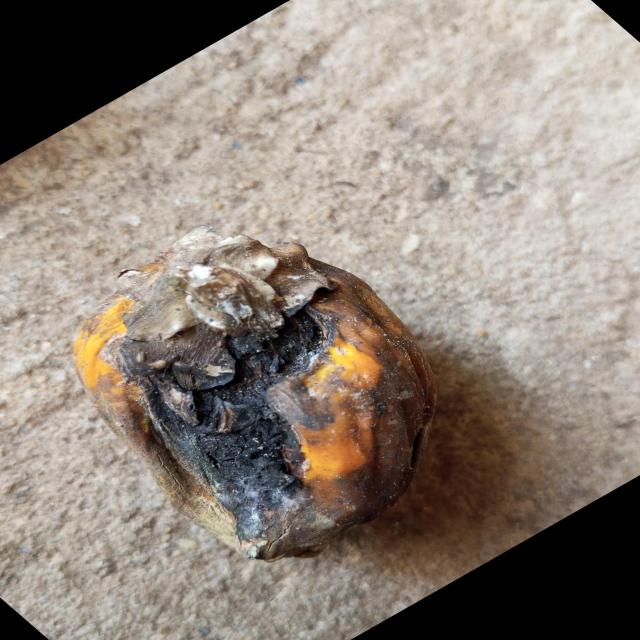damaged: (75, 226, 435, 561)
